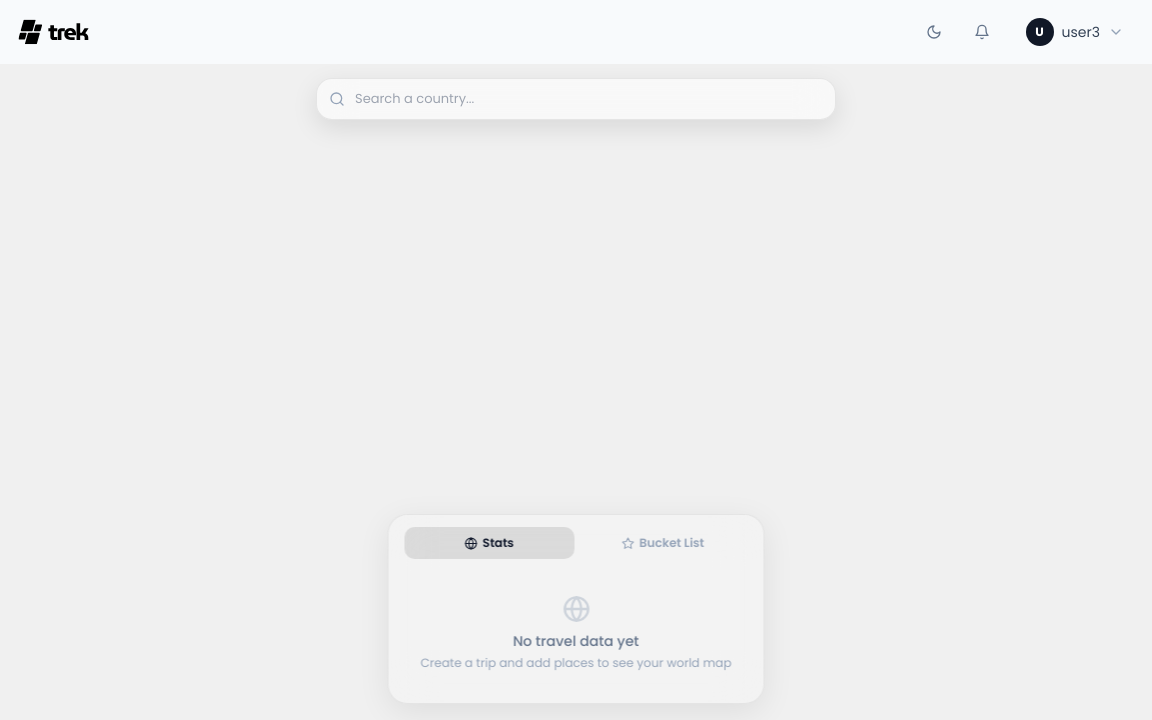
it: AtlasPage › FE-PAGE-ATLAS-013: bucket tab Add Place button opens form › clicking Add Place in bucket tab reveals the bucket add form
Note: Switch to bucket tab — click first "Bucket List" tab button
Click the button "Bucket List" at (663, 543), box [578, 527, 748, 559]
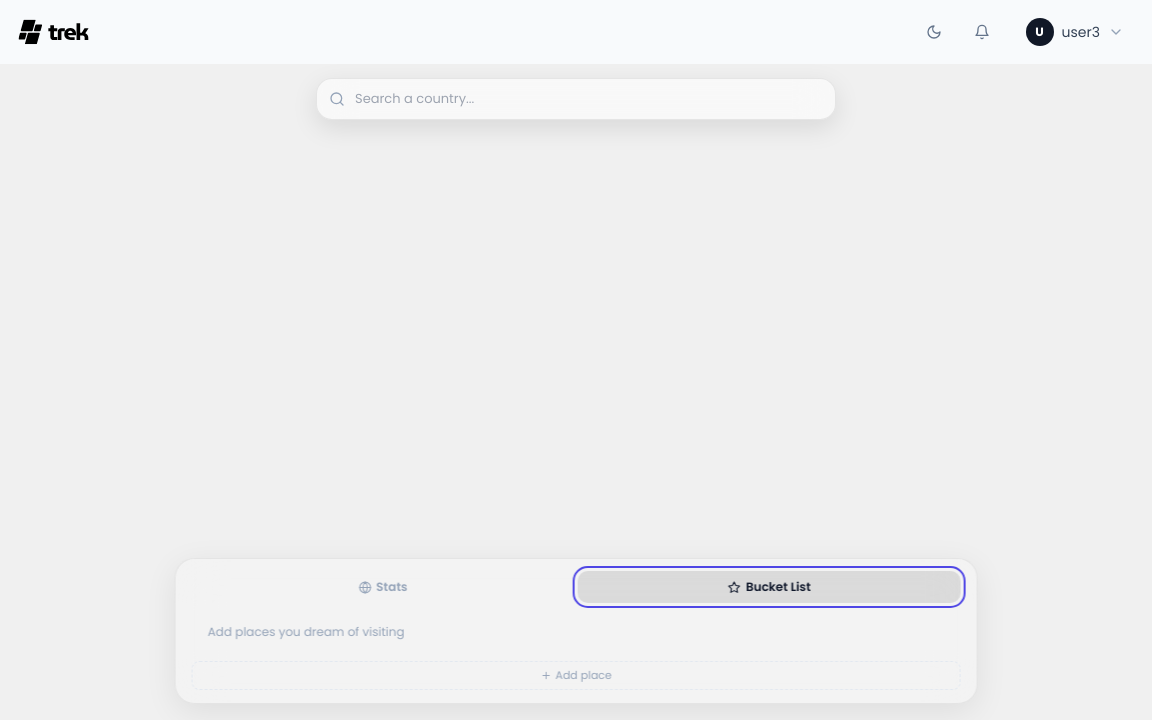
Check: the button "Add place" is shown
Note: Click the Add place button
Click the button "Add place" at (576, 675), box [192, 661, 960, 690]
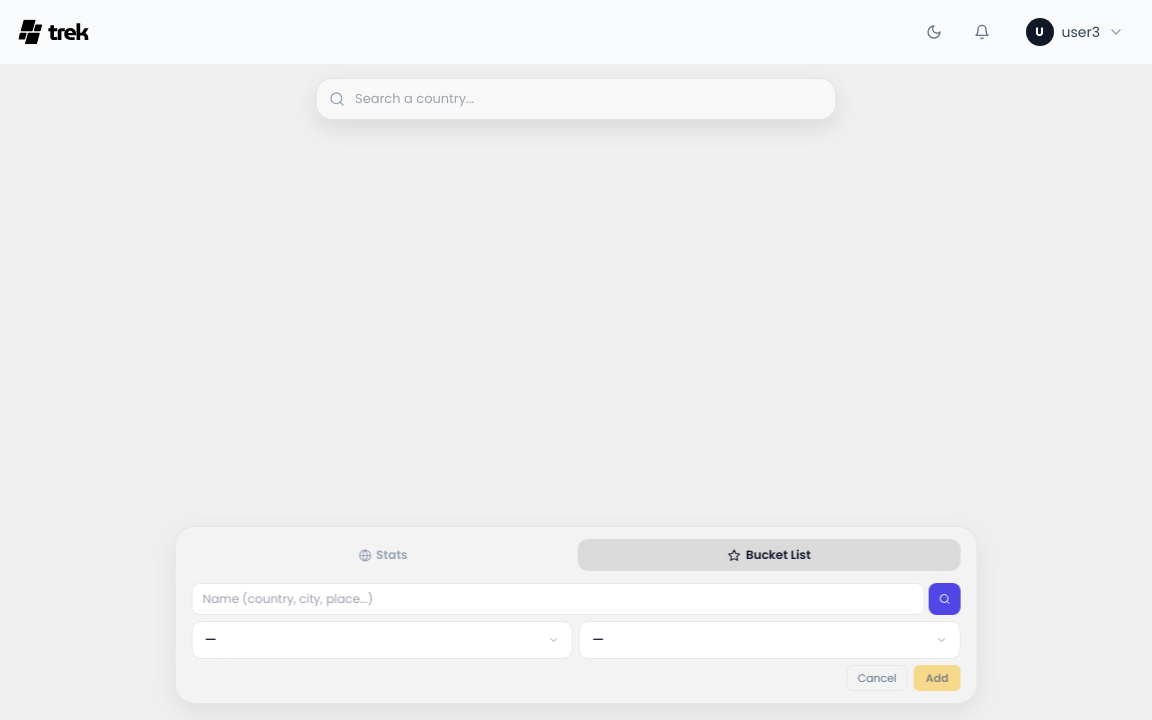
Check: the field with placeholder "Name (country, city, place...)" is shown, box [192, 583, 924, 615]
